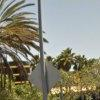Tree: (54, 39, 92, 92)
